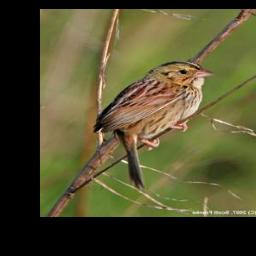Sparrow: (91, 60, 216, 193)
